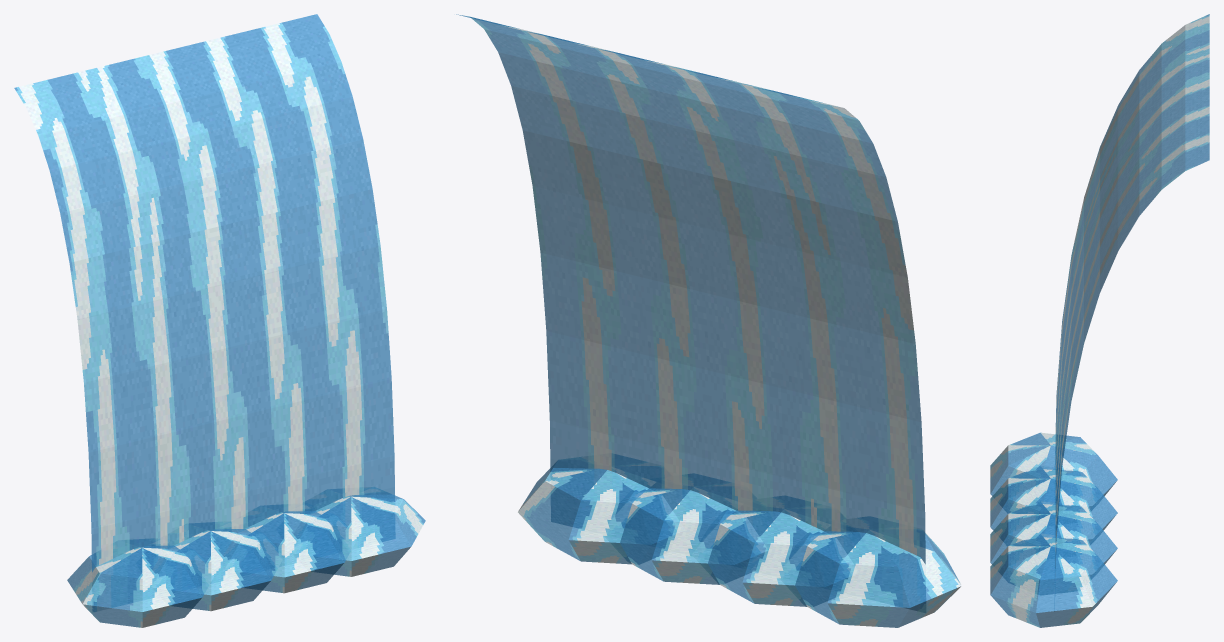
Rendered from cachoeira.glb.
3 views of the same model, side by side, from view 1: azimuth 30°, elevation 25°; view 2: azimuth 150°, elevation 25°; view 3: azimuth 270°, elevation 25° (orthographic). The views are drawn at different scales.
Visible parts, largest first — view 1: Liquid_Waterfall, WaterfallFoam_0, WaterfallFoam_3, WaterfallFoam_2, WaterfallFoam_1; view 2: Liquid_Waterfall, WaterfallFoam_0, WaterfallFoam_3, WaterfallFoam_2, WaterfallFoam_1; view 3: Liquid_Waterfall, WaterfallFoam_3, WaterfallFoam_2, WaterfallFoam_1, WaterfallFoam_0.
Part boxes in pixels (bbox=[...]): Liquid_Waterfall: bbox=[14, 14, 394, 611]; WaterfallFoam_0: bbox=[67, 538, 213, 627]; WaterfallFoam_3: bbox=[292, 487, 425, 576]; WaterfallFoam_2: bbox=[222, 505, 355, 593]; WaterfallFoam_1: bbox=[151, 521, 281, 611]; Liquid_Waterfall: bbox=[456, 14, 925, 610]; WaterfallFoam_0: bbox=[780, 517, 961, 627]; WaterfallFoam_3: bbox=[518, 454, 678, 564]; WaterfallFoam_2: bbox=[605, 474, 766, 584]; WaterfallFoam_1: bbox=[692, 496, 854, 606]; Liquid_Waterfall: bbox=[1055, 14, 1209, 578]; WaterfallFoam_3: bbox=[990, 534, 1117, 627]; WaterfallFoam_2: bbox=[990, 501, 1117, 594]; WaterfallFoam_1: bbox=[990, 466, 1117, 545]; WaterfallFoam_0: bbox=[990, 432, 1117, 513].
Bounding box in the file's own units: 2.15 × 2.89 × 1.2.
Materials: 2 (2 with a texture image).
